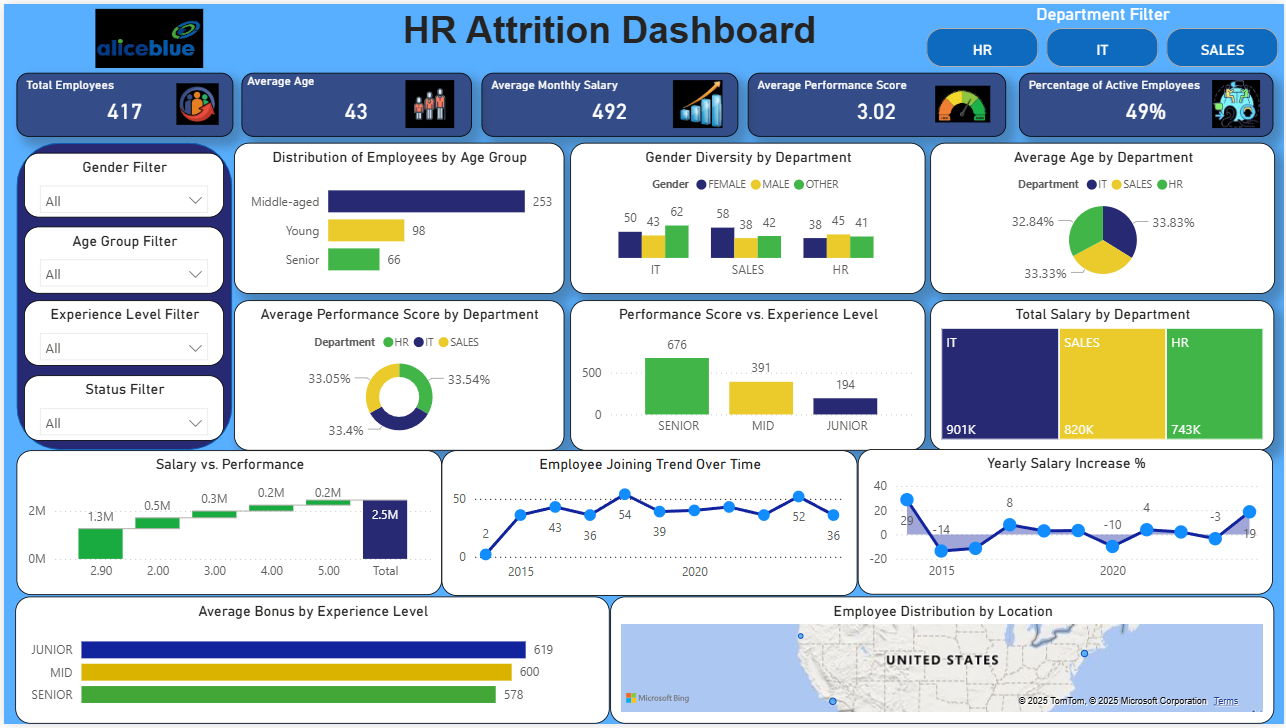

This screenshot's page, from the dashboard's own definition file:
{"tool":"powerbi","page":{"name":"Dashboard","canvas":[1280,720],"ordinal":0},"visuals":[{"type":"card","title":"Total Employees","fields":{"Values":["CountNonNull(Employee_dataset.ID)"]},"box":[12.1,68.8,217.2,63.9],"z":0},{"type":"card","title":"Average Performance Score","fields":{"Values":["Avg(Employee_dataset.Performance Score)"]},"box":[744.4,68.8,258.2,63.9],"z":1000},{"type":"card","title":"Average Monthly Salary","fields":{"Values":["Avg(Employee_dataset.Monthly Salary)"]},"box":[477.8,68.8,257,63.9],"z":2000},{"type":"card","title":"Percentage of Active Employees","fields":{"Values":["Employee_dataset.%_Active_Employees"]},"box":[1014.6,68.8,254.6,63.9],"z":3000},{"type":"card","title":"Average Age","fields":{"Values":["Avg(Employee_dataset.Age)"]},"box":[237.7,68.8,230.4,63.9],"z":4000},{"type":"textbox","box":[295.6,0,621.3,59.1],"z":5000},{"type":"advancedSlicerVisual","title":"Department Filter","fields":{"Values":["Employee_dataset.Department"]},"box":[916.9,0,363.1,68.8],"z":6000},{"type":"shape","box":[12.9,138.6,215.7,307.1],"z":7000},{"type":"slicer","title":"Gender Filter","fields":{"Values":["Employee_dataset.Gender"]},"box":[20,148.7,200,64.7],"z":8000},{"type":"slicer","title":"Status Filter","fields":{"Values":["Employee_dataset.Status"]},"box":[20,371.4,200,65.7],"z":9000},{"type":"slicer","title":"Age Group Filter","fields":{"Values":["Employee_dataset.Age Group"]},"box":[20,222.9,200,67.1],"z":10000},{"type":"slicer","title":"Experience Level Filter","fields":{"Values":["Employee_dataset.Experience Level"]},"box":[20,295.7,200,65.7],"z":11000},{"type":"barChart","title":"Distribution of Employees by Age Group","fields":{"Y":["Employee_dataset.Total_Employees"],"Category":["Employee_dataset.Age_Category"]},"box":[230,138.8,330,151.2],"z":12000},{"type":"clusteredColumnChart","title":"Gender Diversity by Department","fields":{"Category":["Employee_dataset.Department"],"Y":["Employee_dataset.Total_Employees"],"Series":["Employee_dataset.Gender"]},"box":[566.2,138.8,355,151.2],"z":13000},{"type":"pieChart","title":"Average Age by Department","fields":{"Category":["Employee_dataset.Department"],"Y":["Avg(Employee_dataset.Age)"]},"box":[926.2,138.8,345,151.2],"z":14000},{"type":"donutChart","title":"Average Performance Score by Department","fields":{"Category":["Employee_dataset.Department"],"Y":["Avg(Employee_dataset.Performance Score)"]},"box":[230,296.2,330,150],"z":15000},{"type":"columnChart","title":"Performance Score vs. Experience Level","fields":{"Category":["Employee_dataset.Experience Level"],"Y":["Sum(Employee_dataset.Performance Score)"]},"box":[566.2,296.2,355,150],"z":16000},{"type":"map","title":"Employee Distribution by Location","fields":{"Category":["Employee_dataset.Location"],"Size":["CountNonNull(Employee_dataset.Employee ID)"]},"box":[605.7,592.9,664.3,127.1],"z":17000},{"type":"treemap","title":"Total Salary by Department","fields":{"Values":["Sum(Employee_dataset.Salary)"],"Group":["Employee_dataset.Department"]},"box":[926.2,296.2,343.8,150],"z":18000},{"type":"waterfallChart","title":"Salary vs. Performance","fields":{"Category":["Employee_dataset.Performance Score"],"Y":["Sum(Employee_dataset.Salary)"]},"box":[12.2,446.7,425.6,144.4],"z":19000},{"type":"barChart","title":"Average Bonus by Experience Level","fields":{"Y":["Avg(Employee_dataset.Bonus)"],"Category":["Employee_dataset.Experience Level"]},"box":[11.4,592.9,594.3,127.1],"z":20000},{"type":"lineChart","title":"Employee Joining Trend Over Time","fields":{"Y":["CountNonNull(Employee_dataset.Employee ID)"],"Category":["Employee_dataset.Year Joined"]},"box":[437.1,445.7,415.7,145.7],"z":21000},{"type":"areaChart","title":"Yearly Salary Increase %","fields":{"Y":["Avg(Employee_dataset.Salary Increase %)"],"Category":["Employee_dataset.Year Joined"]},"box":[853.3,445.6,415.6,145.6],"z":22000},{"type":"image","box":[167.8,71.1,52.2,58.3],"z":23000},{"type":"image","box":[0,0,290,68.8],"z":24000},{"type":"image","box":[395,71.2,61.2,58.1],"z":25000},{"type":"image","box":[662.3,71.5,63.1,57.7],"z":26000},{"type":"image","box":[926.2,71.5,65.4,57.7],"z":27000},{"type":"image","box":[1203.1,71.5,59.2,57.7],"z":28000}]}

Visuals, with their boxes in screenshot pixels (x1, y1, x2, y2), scaled from the page's 1280x720 canvas onto the 1286x728 screenshot:
"Total Employees" card: [x1=12, y1=70, x2=230, y2=134]
"Average Performance Score" card: [x1=748, y1=70, x2=1007, y2=134]
"Average Monthly Salary" card: [x1=480, y1=70, x2=738, y2=134]
"Percentage of Active Employees" card: [x1=1019, y1=70, x2=1275, y2=134]
"Average Age" card: [x1=239, y1=70, x2=470, y2=134]
textbox: [x1=297, y1=0, x2=921, y2=60]
"Department Filter" advancedSlicerVisual: [x1=921, y1=0, x2=1285, y2=70]
shape: [x1=13, y1=140, x2=230, y2=451]
"Gender Filter" slicer: [x1=20, y1=150, x2=221, y2=216]
"Status Filter" slicer: [x1=20, y1=376, x2=221, y2=442]
"Age Group Filter" slicer: [x1=20, y1=225, x2=221, y2=293]
"Experience Level Filter" slicer: [x1=20, y1=299, x2=221, y2=365]
"Distribution of Employees by Age Group" barChart: [x1=231, y1=140, x2=563, y2=293]
"Gender Diversity by Department" clusteredColumnChart: [x1=569, y1=140, x2=926, y2=293]
"Average Age by Department" pieChart: [x1=931, y1=140, x2=1277, y2=293]
"Average Performance Score by Department" donutChart: [x1=231, y1=299, x2=563, y2=451]
"Performance Score vs. Experience Level" columnChart: [x1=569, y1=299, x2=926, y2=451]
"Employee Distribution by Location" map: [x1=609, y1=599, x2=1276, y2=727]
"Total Salary by Department" treemap: [x1=931, y1=299, x2=1276, y2=451]
"Salary vs. Performance" waterfallChart: [x1=12, y1=452, x2=440, y2=598]
"Average Bonus by Experience Level" barChart: [x1=11, y1=599, x2=609, y2=727]
"Employee Joining Trend Over Time" lineChart: [x1=439, y1=451, x2=857, y2=598]
"Yearly Salary Increase %" areaChart: [x1=857, y1=451, x2=1275, y2=598]
image: [x1=169, y1=72, x2=221, y2=131]
image: [x1=0, y1=0, x2=291, y2=70]
image: [x1=397, y1=72, x2=458, y2=131]
image: [x1=665, y1=72, x2=729, y2=131]
image: [x1=931, y1=72, x2=996, y2=131]
image: [x1=1209, y1=72, x2=1268, y2=131]
